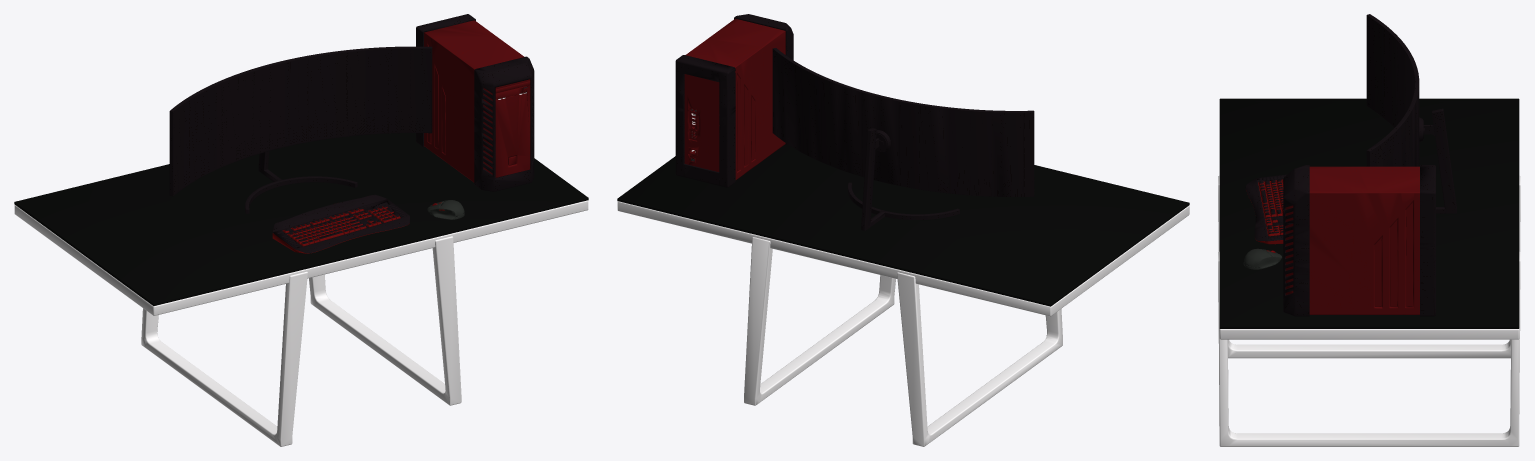
The model's file is gaming_pc.glb.
3 views of the same model, side by side, from view 1: azimuth 30°, elevation 25°; view 2: azimuth 150°, elevation 25°; view 3: azimuth 270°, elevation 25° (orthographic). The views are drawn at different scales.
Visible parts, largest first — view 1: Object_2, Object_5, Object_3, Object_15, Object_8; view 2: Object_2, Object_5, Object_3; view 3: Object_2, Object_5, Object_3, Object_15, Object_8.
Boxes of the visible parts, left/top/right/bottom form: Object_2: left=14, top=133, right=588, bottom=305; Object_5: left=169, top=14, right=534, bottom=253; Object_3: left=14, top=87, right=588, bottom=446; Object_15: left=272, top=206, right=409, bottom=253; Object_8: left=427, top=200, right=464, bottom=219; Object_2: left=617, top=144, right=1189, bottom=306; Object_5: left=675, top=14, right=1034, bottom=230; Object_3: left=617, top=109, right=1189, bottom=446; Object_2: left=1219, top=98, right=1519, bottom=328; Object_5: left=1245, top=14, right=1456, bottom=316; Object_3: left=1218, top=175, right=1520, bottom=446; Object_15: left=1246, top=179, right=1283, bottom=244; Object_8: left=1243, top=248, right=1281, bottom=269.
Size of the model in its own units: 1.8 by 1.17 by 1.01.
Materials: 6 (6 with a texture image).
